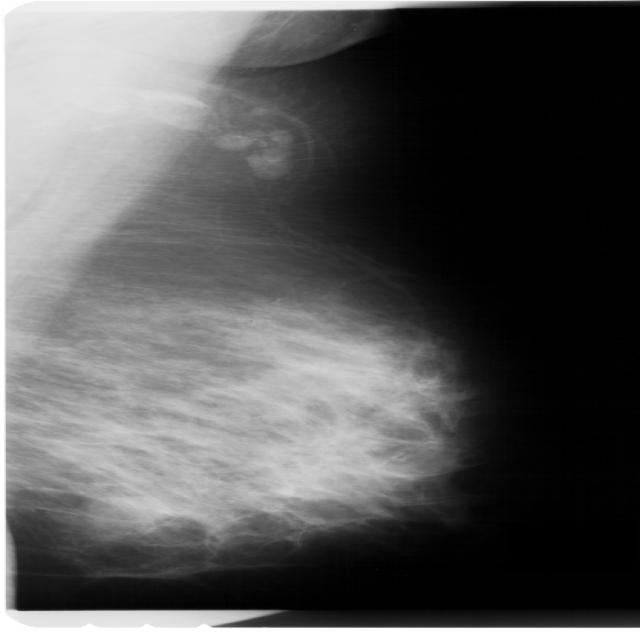tumour: (86, 494, 167, 526)
